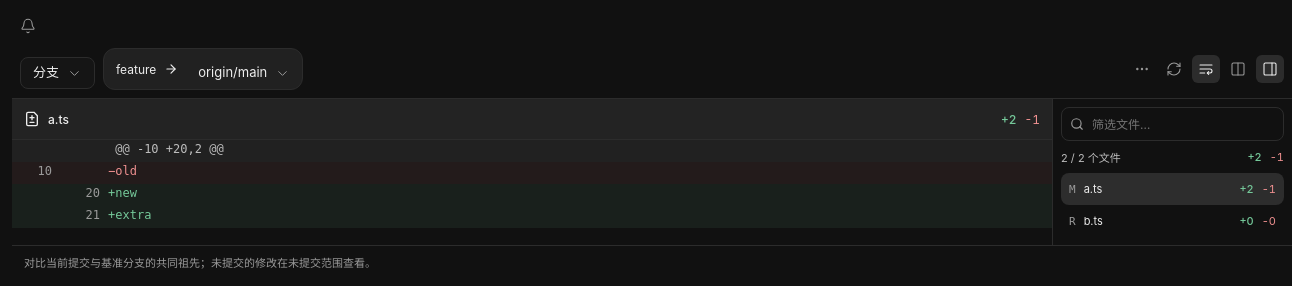
Test case: distinguishes an empty branch from a filter with no matching files
Expected: the element named "统一文件差异" is shown, [12,140,1052,228]
Type "missing" into the field labelled "筛选文件" at x=1184, y=124, box [1092,108,1275,140]
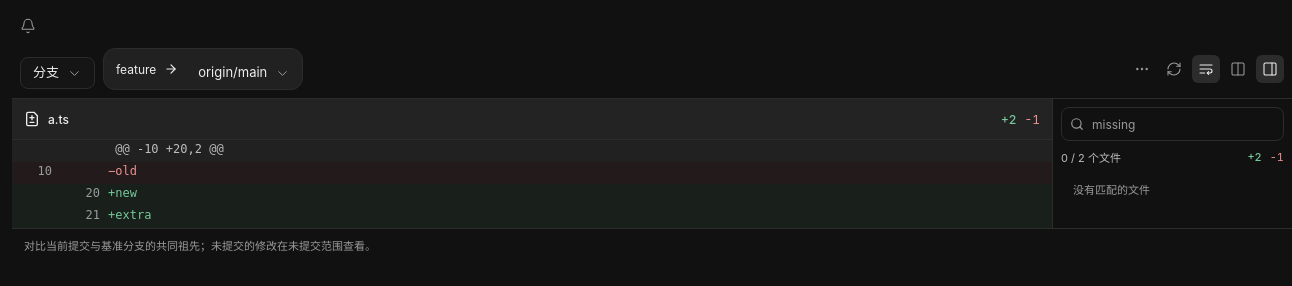
Expected: the text "此范围没有变更" is not shown
Now the text "没有匹配的文件" is shown, box [1073,183,1150,197]
Click the button named "刷新变更" at x=1174, y=69, box [1160,55,1188,83]
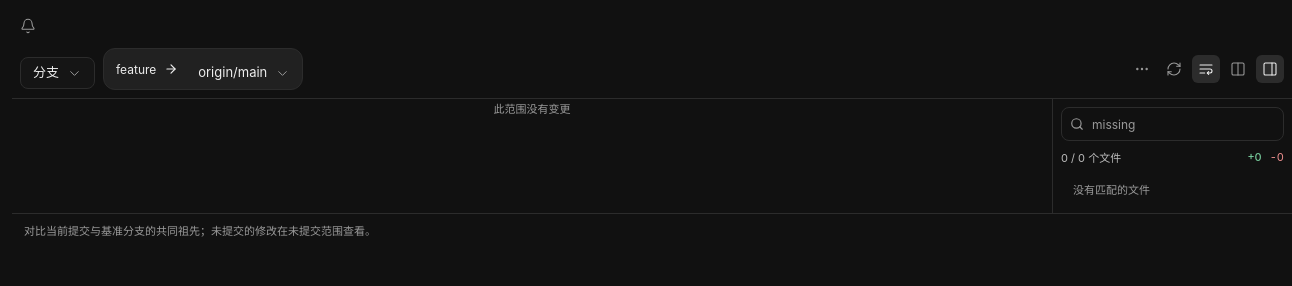
Now the text "此范围没有变更" is shown, box [494,102,570,116]
